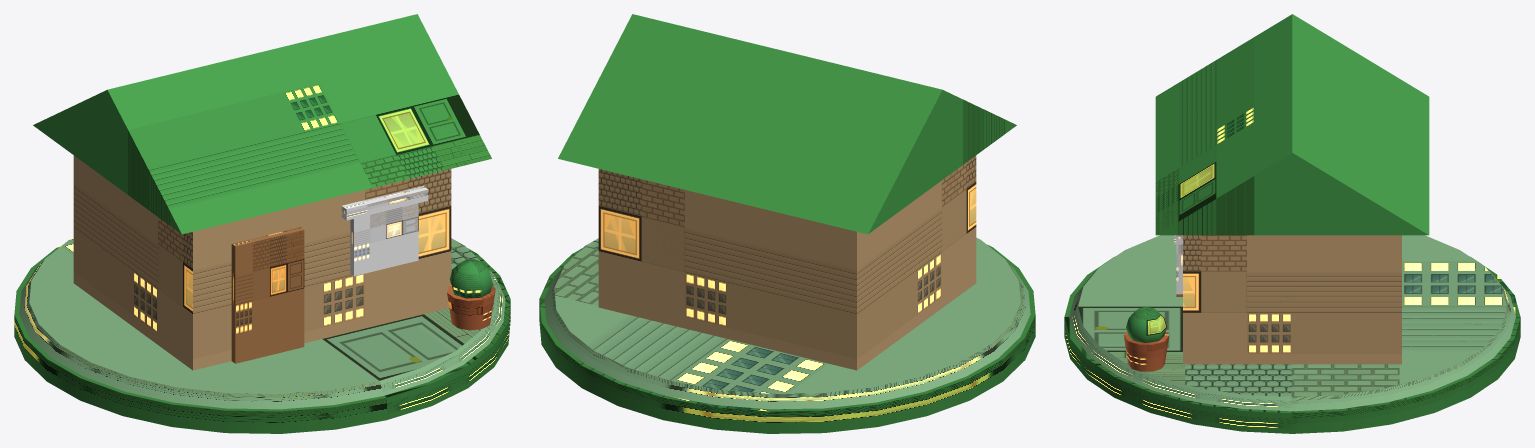
The model's file is tier-03-garden-shed.glb.
3 views of the same model, side by side, from view 1: azimuth 30°, elevation 25°; view 2: azimuth 150°, elevation 25°; view 3: azimuth 270°, elevation 25° (orthographic). The views are drawn at different scales.
Visible parts, largest first — view 1: toon; view 2: toon; view 3: toon.
Part boxes in pixels (left/top/right/bottom): toon: left=14, top=14, right=510, bottom=433; toon: left=539, top=14, right=1035, bottom=433; toon: left=1064, top=14, right=1520, bottom=433.
Bounding box in the file's own units: 1 × 0.615 × 1.
Materials: 1 (1 with a texture image).
